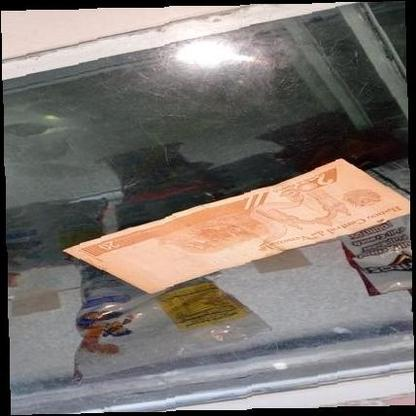twenty-back-vef: (62, 156, 410, 295)
